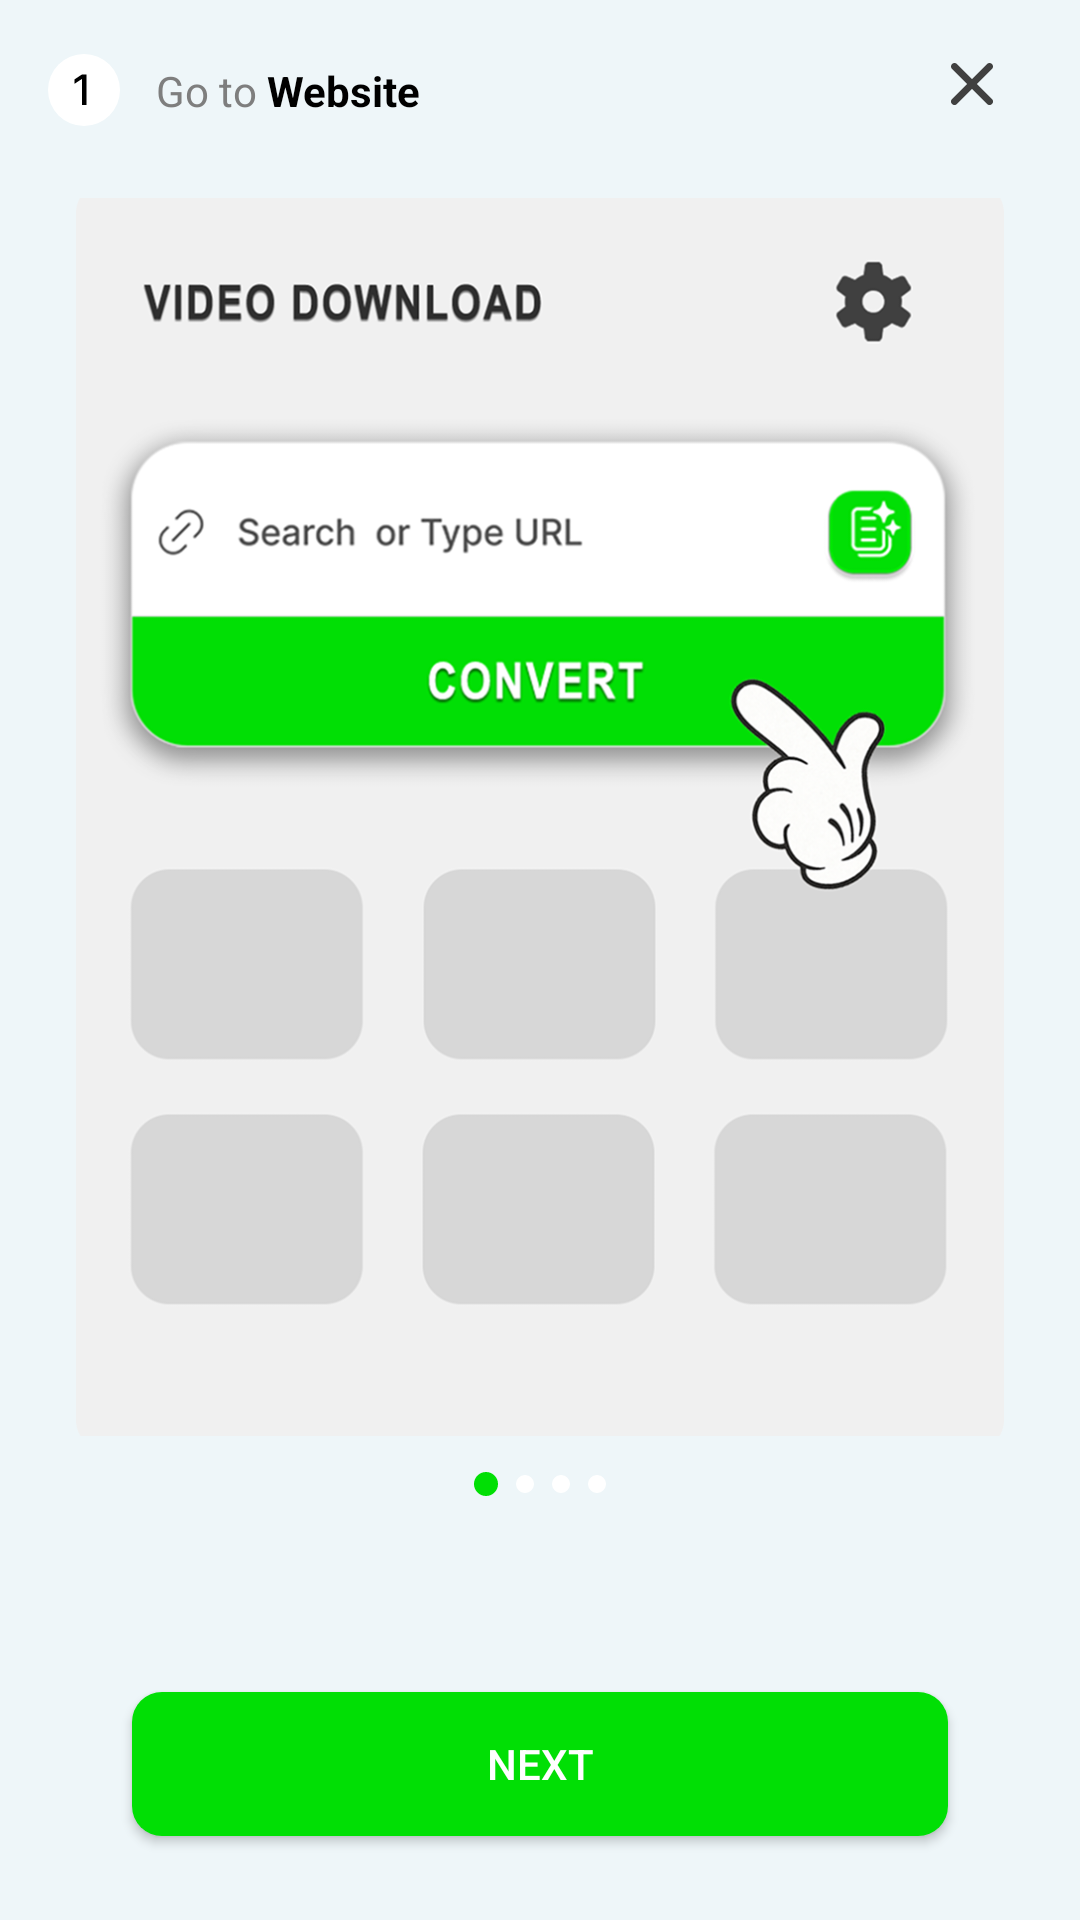

Where to tap for icons on this 1080*1920 app screen, as (x=x, y=y):
cancel: (x=972, y=84)
